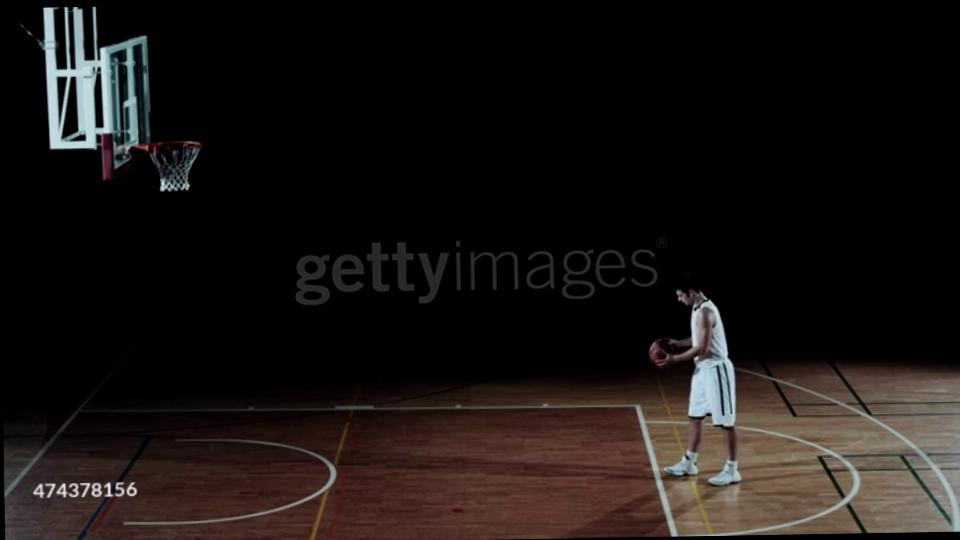hoop: (126, 138, 206, 156)
